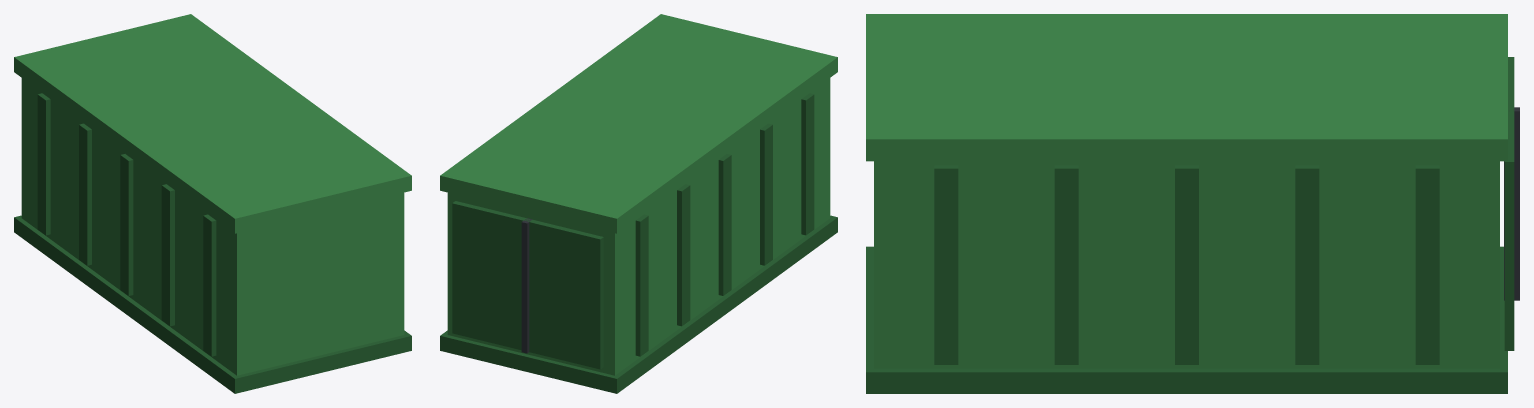
Rendered from conteiner_c.glb.
The picture shows the model from 3 angles, left to right: view 1: azimuth 30°, elevation 25°; view 2: azimuth 150°, elevation 25°; view 3: azimuth 270°, elevation 25°; orthographic projection. The views are drawn at different scales.
Parts seen in each view (by area): view 1: corpo; view 2: corpo; view 3: corpo.
Boxes of the visible parts, x1,y1,x2,y2 form: corpo: (14, 14, 411, 393); corpo: (440, 14, 837, 393); corpo: (866, 14, 1519, 393).
Bounding box in the file's own units: 0.37 × 0.35 × 0.815.
